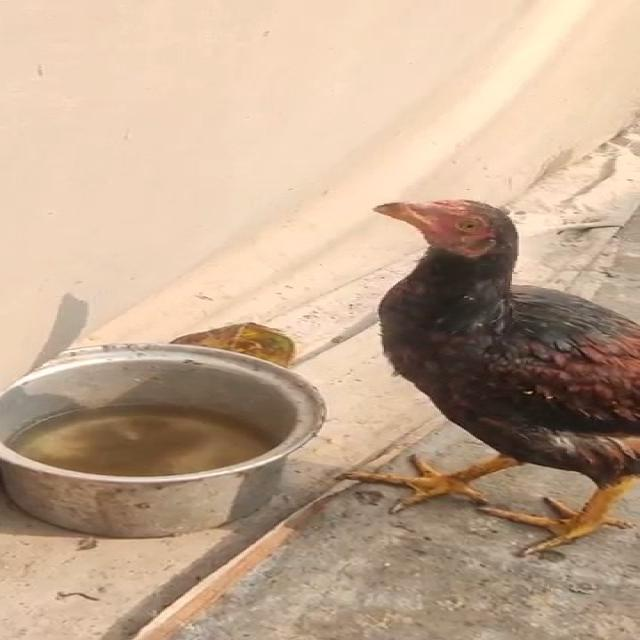drinking: (302, 198, 640, 544)
